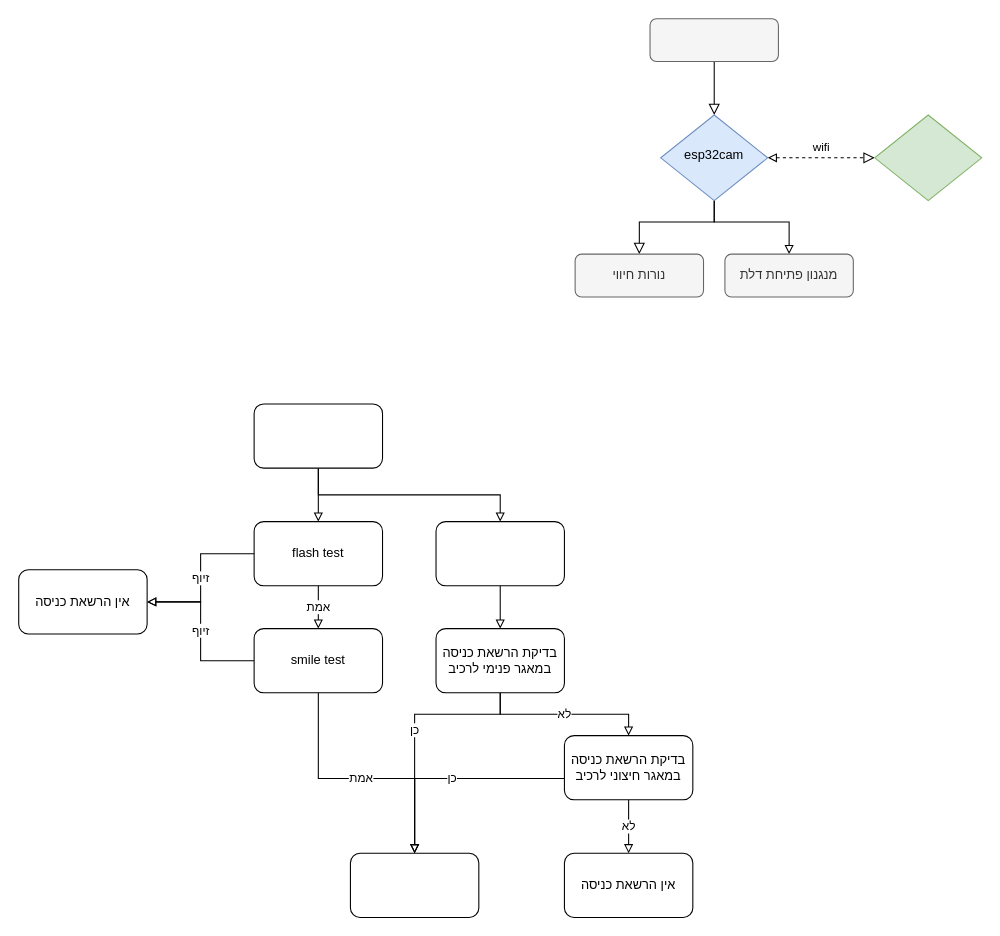
The diagram is 1000 pixels wide and 936 high, and some of its shapes have lost their labels. Each missing label, with the centre of its shape:
חיישן קבוע לזיהוי פנים בטווח הראייה של המצלמה: [318,435]
לכידת מסך עם הפנים באיכות מקסימלית: [499,553]
מחשב: [928,157]
סרט רציף שנקלט על ידי המצלמה: [713,40]
פתיחת דלת: [414,885]
